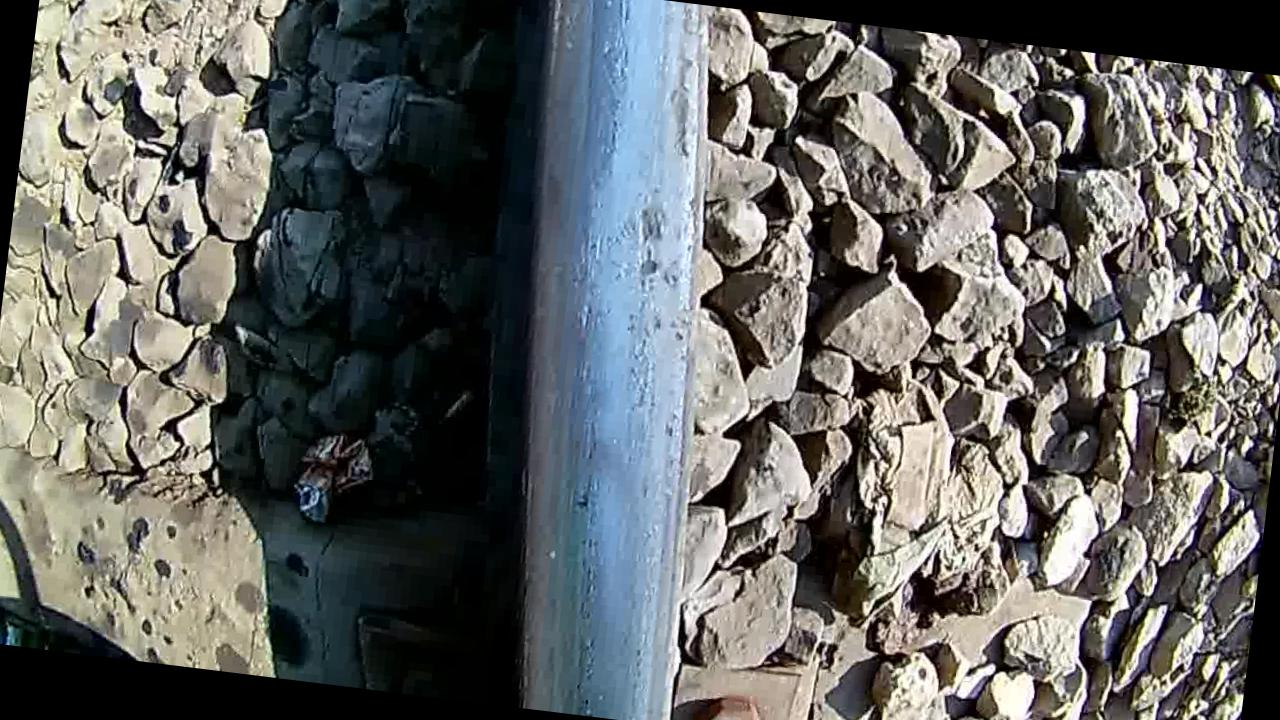crack: (469, 0, 735, 720)
